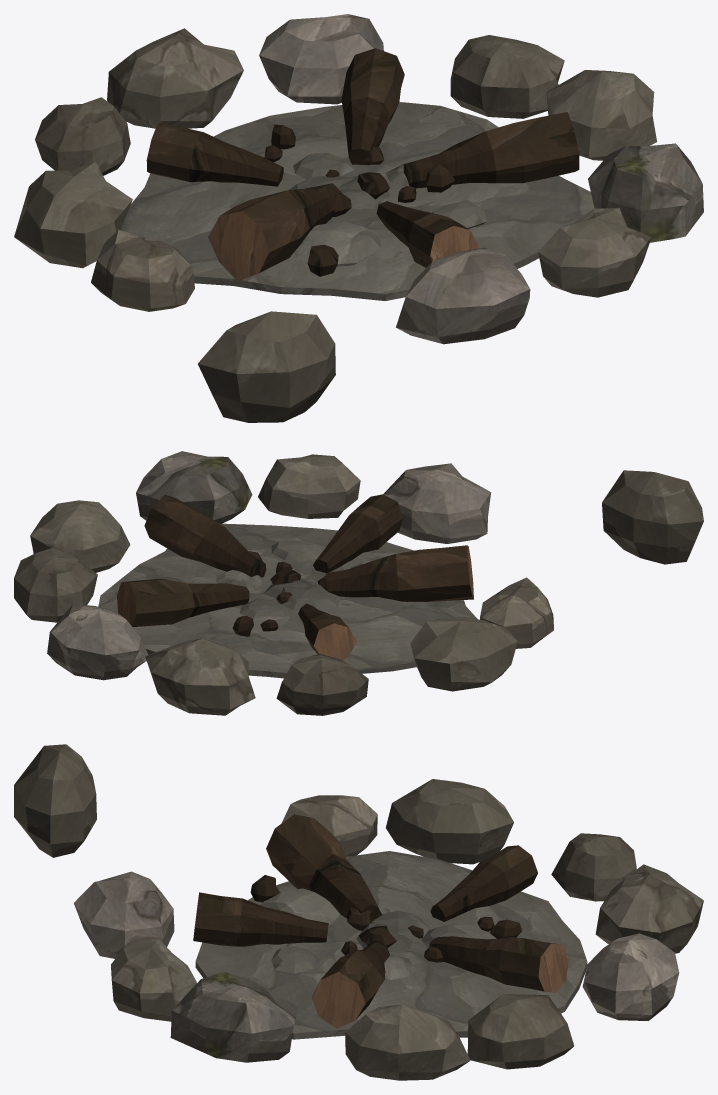
The model's file is junk_campfire_cold.glb.
3 renders of one model, top to bottom at view 1: azimuth 30°, elevation 25°; view 2: azimuth 150°, elevation 25°; view 3: azimuth 270°, elevation 25°, orthographic. The views are drawn at different scales.
Parts seen in each view (by area): view 1: model; view 2: model; view 3: model.
Boxes of the visible parts, x1=… form: model: x1=14, y1=14, x2=703, y2=422; model: x1=14, y1=451, x2=703, y2=715; model: x1=14, y1=744, x2=703, y2=1080.
Size of the model in its own units: 0.9566 by 0.1401 by 0.9972.
Materials: 13 (13 with a texture image).
